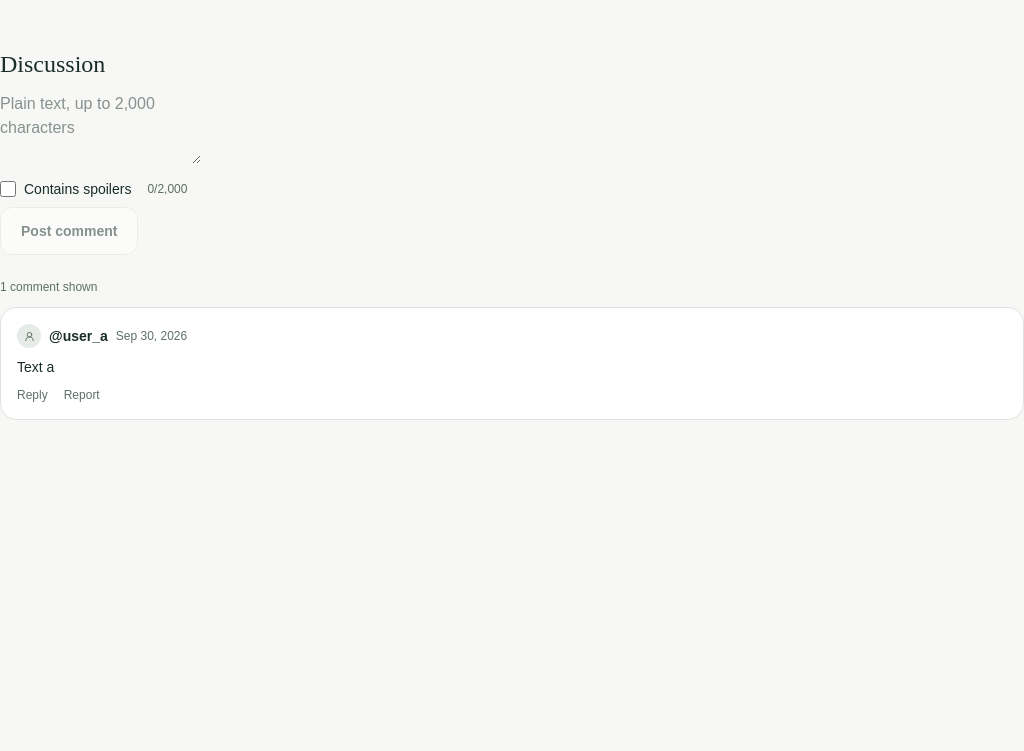
Test: <Discussion> › offers Report (not Edit/Delete) on other people's comments
Click the button "Report" at (82, 395), box [64,387,100,403]
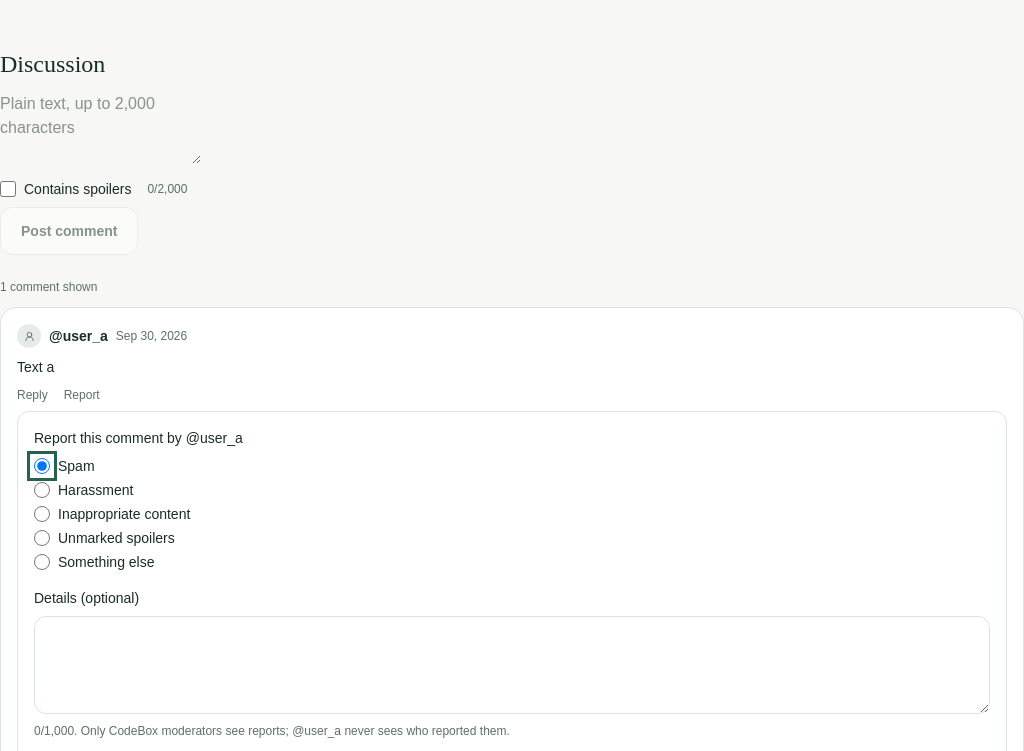
Now the text "Report this comment by @user_a" is shown, box [34,428,243,448]
